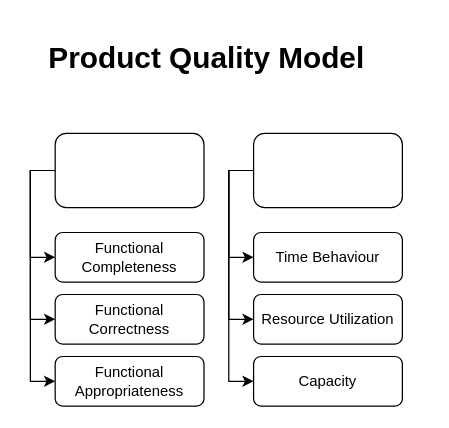
Image size: 449x428. Some labels were removed from this diagram. Each missing label, with the box of its shape:
FUNCTIONAL SUITABILITY: (54, 132, 204, 208)
PERFORMANCE EFFICIENCY: (252, 132, 402, 208)
